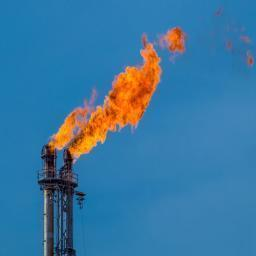fire: (69, 31, 161, 162), (48, 89, 97, 151), (159, 26, 187, 53)
